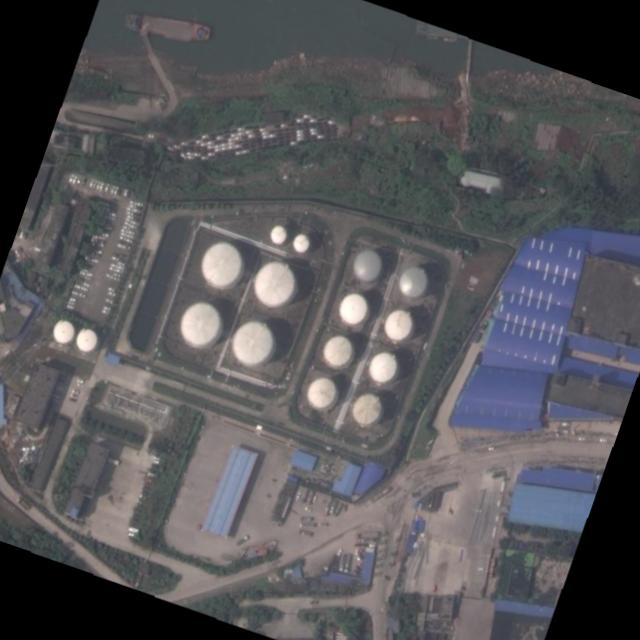storage-tank: (193, 236, 245, 294), (245, 256, 297, 312), (223, 317, 276, 371), (172, 298, 222, 352), (346, 246, 383, 286), (301, 374, 337, 413), (346, 390, 382, 429), (361, 349, 397, 387), (393, 263, 429, 301), (378, 306, 413, 345), (317, 332, 353, 369), (333, 290, 368, 327), (47, 317, 75, 346), (71, 326, 97, 354), (265, 223, 287, 246), (289, 233, 309, 254)
